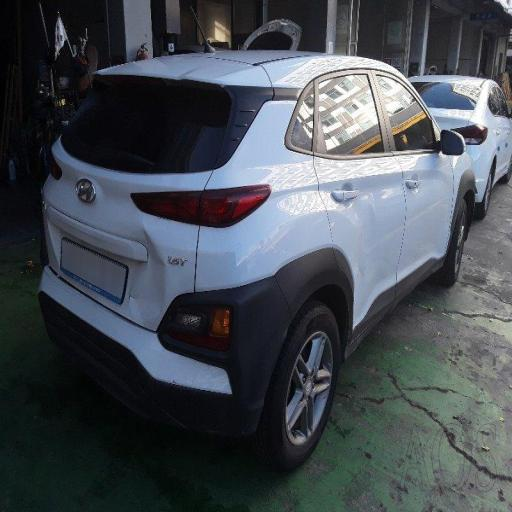dent: (81, 196, 197, 348)
